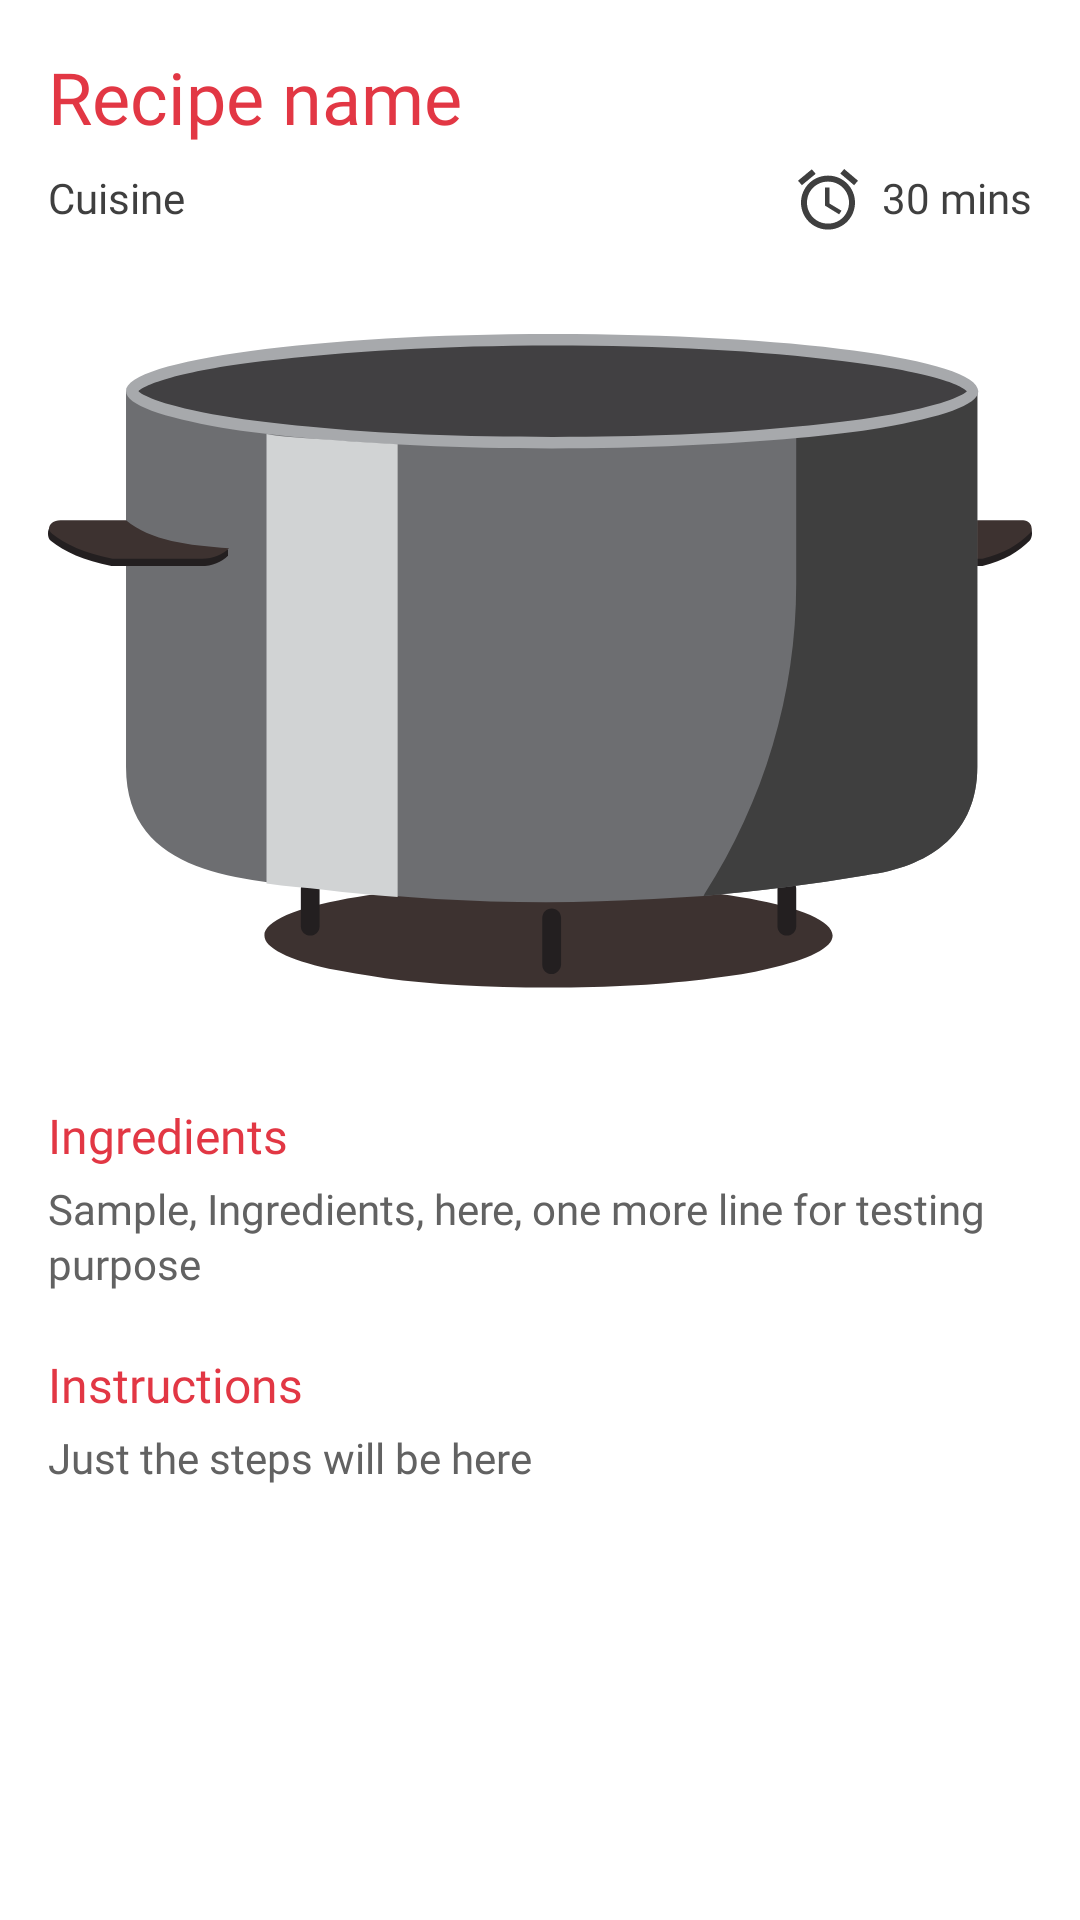

Locate icon controls on the screen. Image size 1080 × 1920, boxes as [x1=x1, y1=y1, x2=x2, y2=y2].
prep time: [x1=798, y1=169, x2=858, y2=230]
